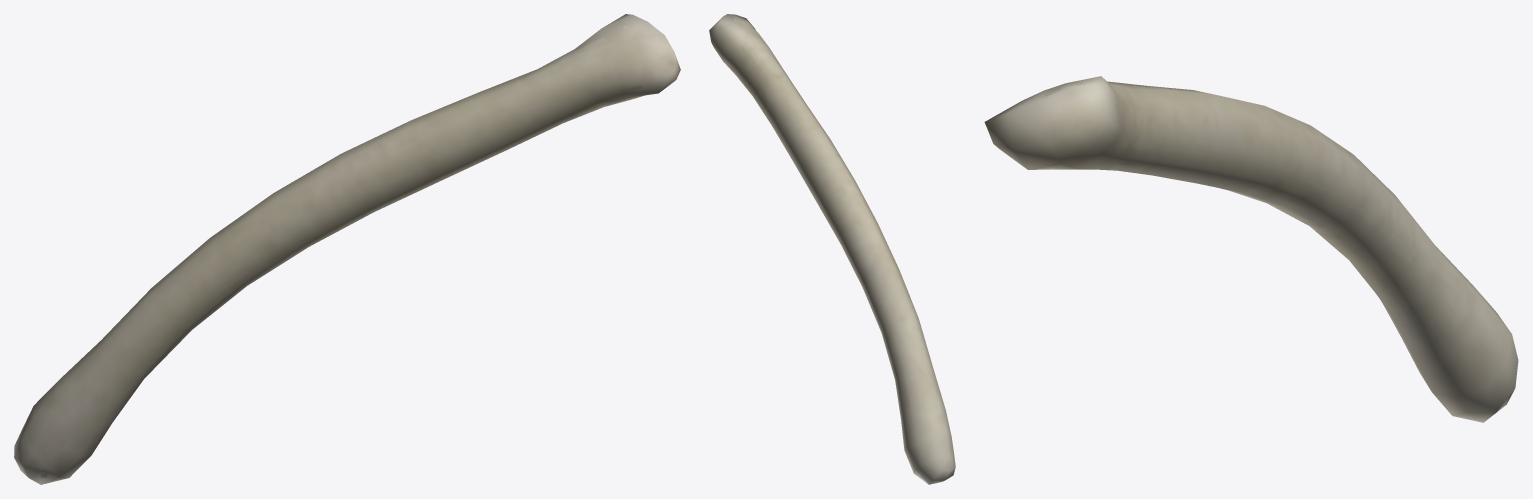
File: Rib R13.fbx
3 renders of one model, left to right at view 1: azimuth 30°, elevation 25°; view 2: azimuth 150°, elevation 25°; view 3: azimuth 270°, elevation 25°, orthographic. The views are drawn at different scales.
Parts seen in each view (by area): view 1: Rib R13 low, Rib R13; view 2: Rib R13 low, Rib R13; view 3: Rib R13 low, Rib R13.
Part boxes in pixels (x1,y1,x2,y2): Rib R13 low: [14, 14, 680, 484]; Rib R13: [21, 26, 648, 478]; Rib R13 low: [709, 14, 955, 484]; Rib R13: [725, 18, 951, 482]; Rib R13 low: [984, 76, 1518, 422]; Rib R13: [1044, 83, 1482, 377].
Size of the model in its own units: 3.24 by 2.86 by 2.17.
1 material, 1 textured.
